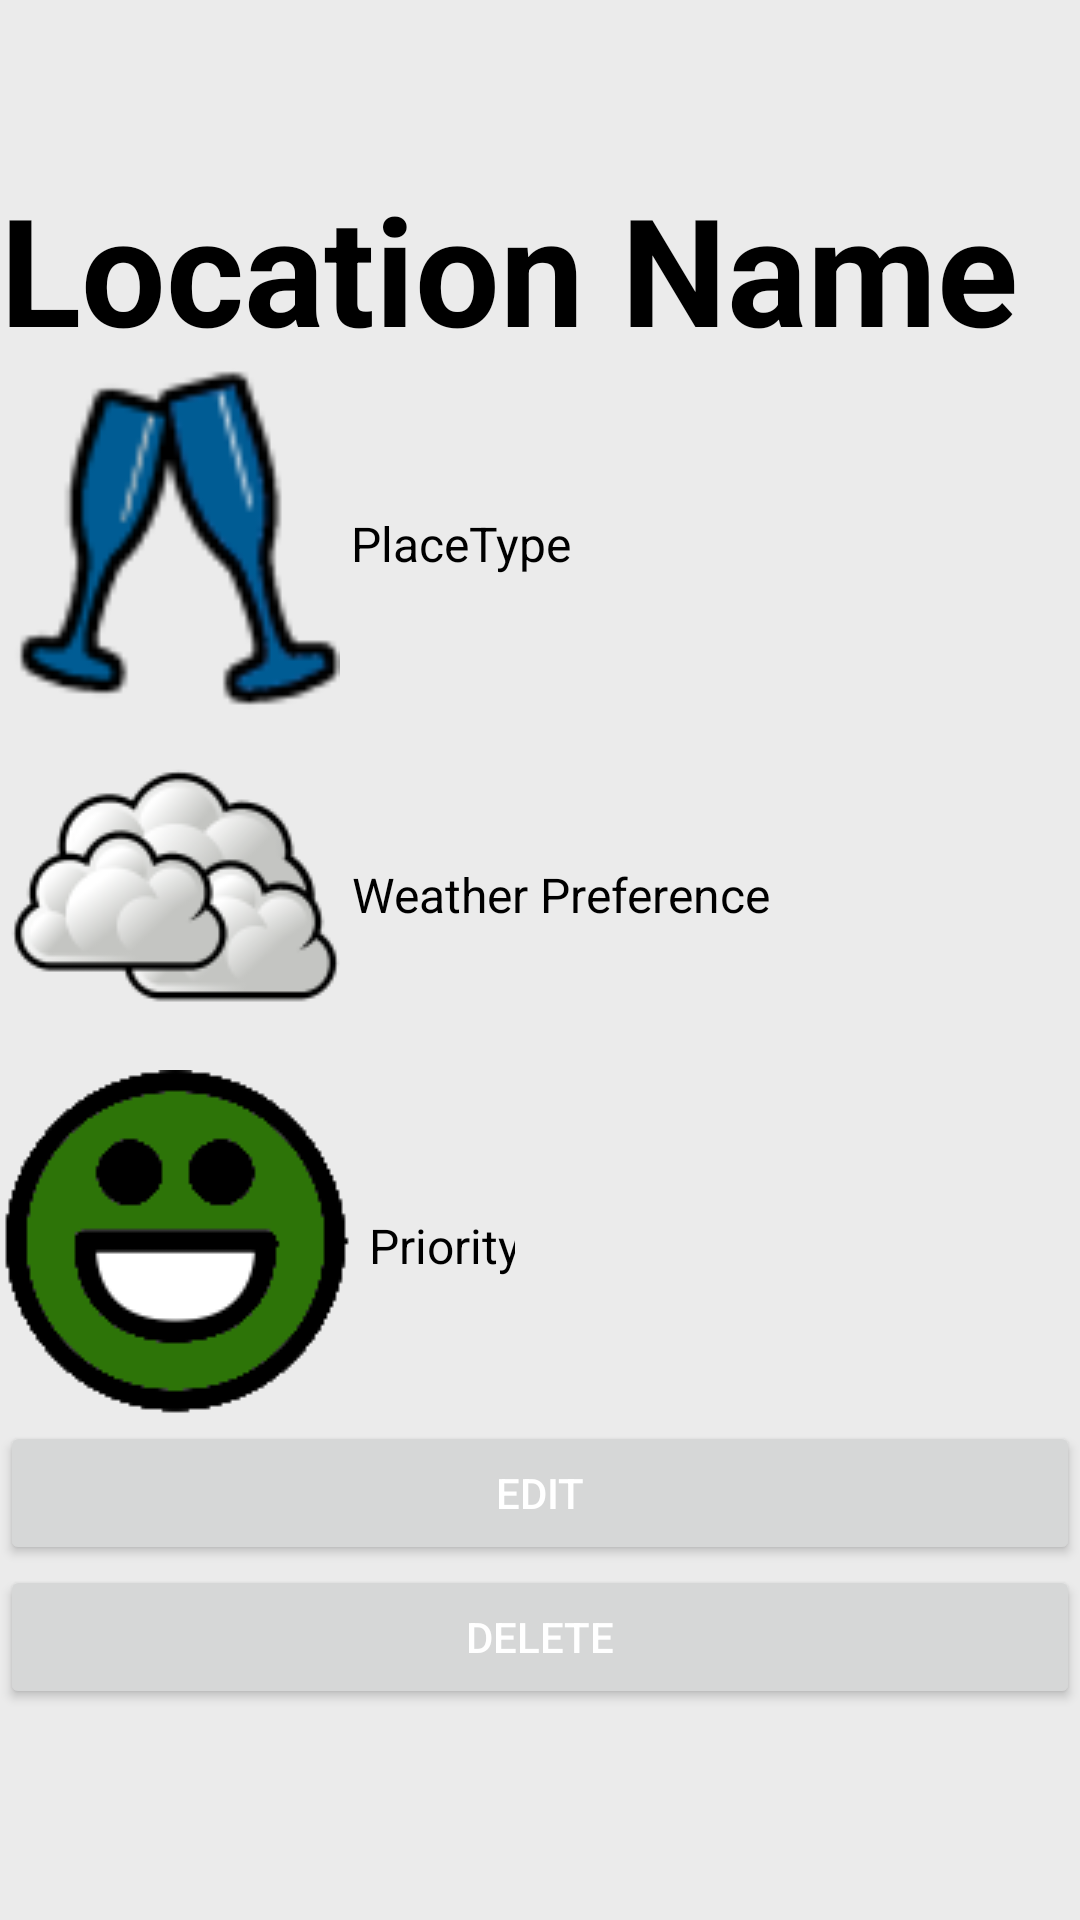

Where to tap for icons on this 1080w x 1920h app screen, as point (x, y):
bar: point (180, 538)
cloud: point (175, 887)
